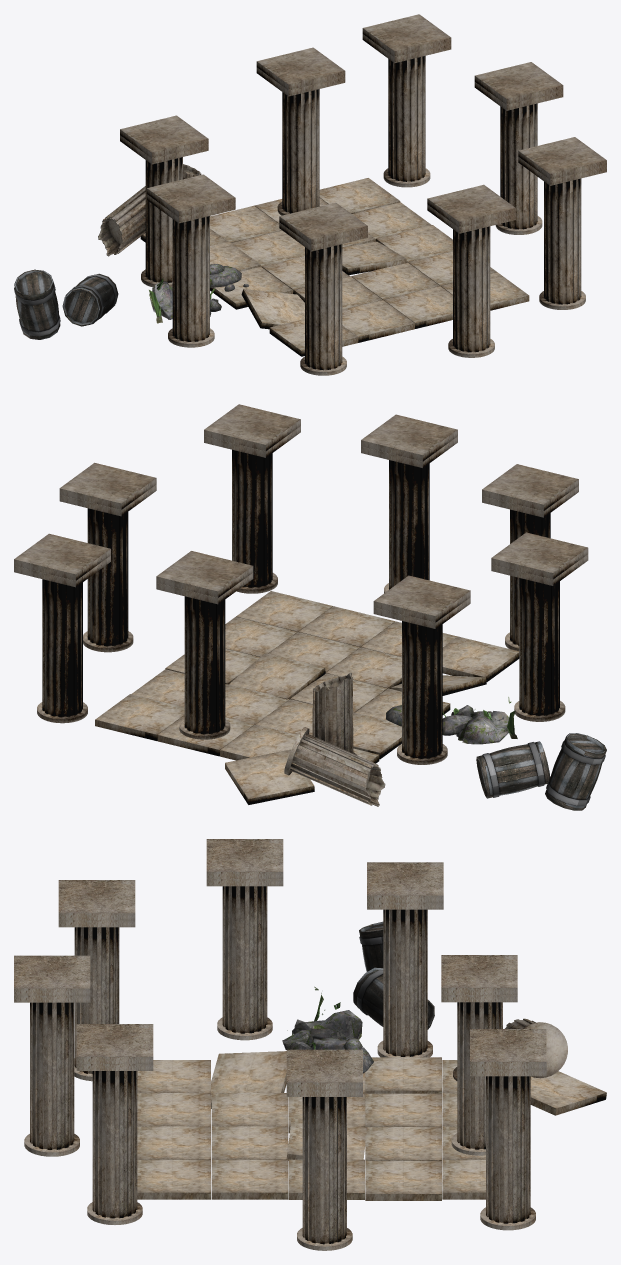
The model's file is pillarscene.fbx.
3 renders of one model, top to bottom at view 1: azimuth 30°, elevation 25°; view 2: azimuth 150°, elevation 25°; view 3: azimuth 270°, elevation 25°, orthographic. The views are drawn at different scales.
Parts seen in each view (by area): view 1: pCube107, pCube104, pCube105, pCube102, pCube103, pCube108, pCube106, pCube25, polySurface4, pCylinder10, polySurface3, pCube90 (+18 smaller); view 2: pCube108, pCube102, pCube25, pCube107, pCube106, pCube105, pCube104, pCylinder10, pCube103, polySurface4, polySurface3, pCube101 (+20 smaller); view 3: pCube102, pCube105, pCube106, pCube104, pCube107, pCube25, pCube108, pCube103, pCube93, pCube65, pCube92, pCube100 (+18 smaller).
Boxes of the visible parts, <box> form: pCube107: <box>362,14,451,187</box>; pCube104: <box>427,184,515,357</box>; pCube105: <box>518,137,606,309</box>; pCube102: <box>147,174,235,347</box>; pCube103: <box>279,202,367,375</box>; pCube108: <box>256,47,345,215</box>; pCube106: <box>474,62,563,234</box>; pCube25: <box>120,115,208,287</box>; polySurface4: <box>14,269,60,339</box>; pCylinder10: <box>98,164,201,256</box>; polySurface3: <box>62,273,118,326</box>; pCube90: <box>342,300,414,342</box>; pCube108: <box>156,551,253,739</box>; pCube102: <box>491,532,588,721</box>; pCube25: <box>373,575,470,764</box>; pCube107: <box>14,533,110,723</box>; pCube106: <box>59,462,156,652</box>; pCube105: <box>204,404,300,593</box>; pCube104: <box>361,414,457,593</box>; pCylinder10: <box>284,672,385,806</box>; pCube103: <box>482,464,578,651</box>; polySurface4: <box>545,733,606,810</box>; polySurface3: <box>476,741,550,798</box>; pCube101: <box>225,749,314,804</box>; pCube102: <box>206,839,283,1040</box>; pCube105: <box>76,1024,153,1224</box>; pCube106: <box>286,1049,362,1250</box>; pCube104: <box>14,955,90,1156</box>; pCube107: <box>470,1029,546,1230</box>; pCube25: <box>367,862,443,1057</box>; pCube108: <box>441,955,517,1155</box>; pCube103: <box>58,880,135,1081</box>; pCube93: <box>211,1159,288,1199</box>; pCube65: <box>365,1160,441,1200</box>; pCube92: <box>137,1159,210,1199</box>; pCube100: <box>211,1051,286,1108</box>.
Size of the model in its own units: 42.47 by 13.62 by 36.06.
